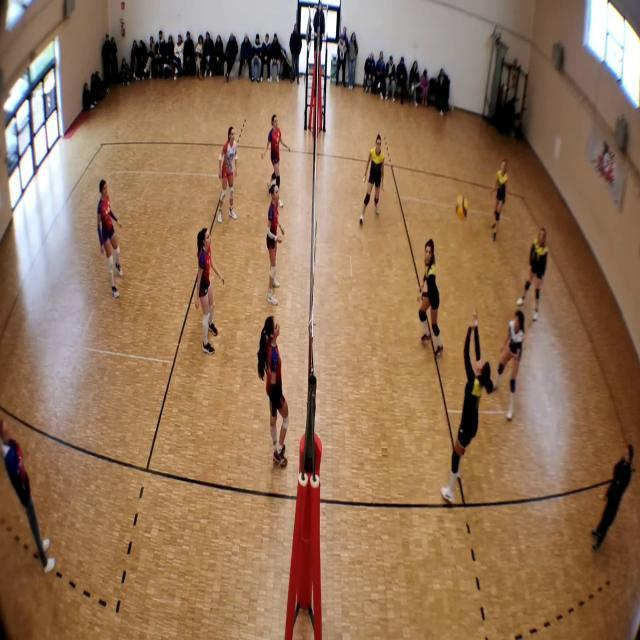volleyball: (456, 194, 468, 218)
